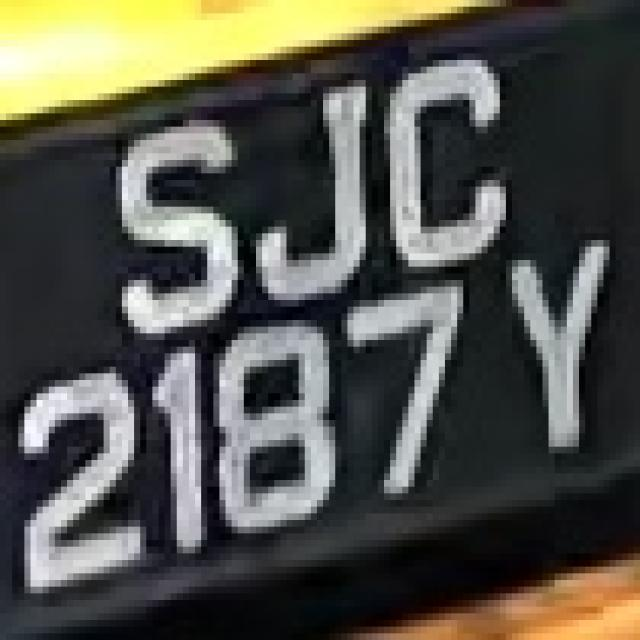1: (134, 320, 213, 580)
2: (6, 347, 152, 613)
7: (336, 273, 476, 507)
8: (208, 320, 348, 560)
C: (384, 20, 506, 280)
J: (256, 53, 378, 307)
S: (104, 107, 244, 333)
Y: (469, 207, 616, 473)
